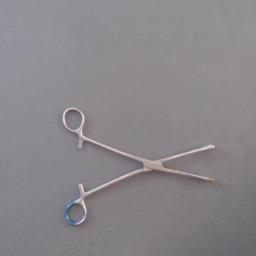Sponge Forceps: (59, 102, 223, 232)
